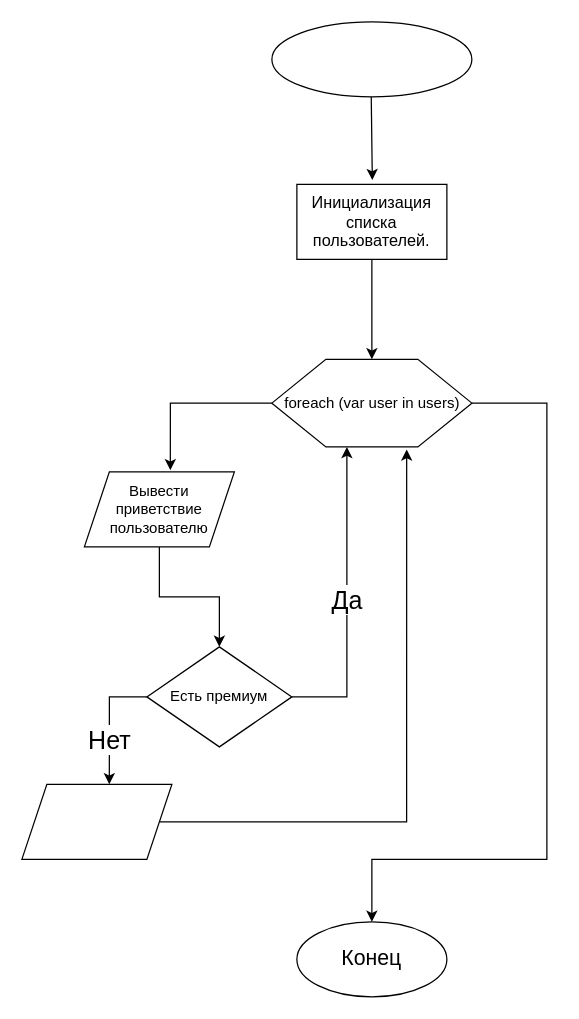
Image size: 579x1019. Some labels were removed from this diagram. The centre of each missing label's shape, as x and y in pixels:
"Начало" belongs at (371,59).
"Показ рекламы пользователю" belongs at (96,821).
